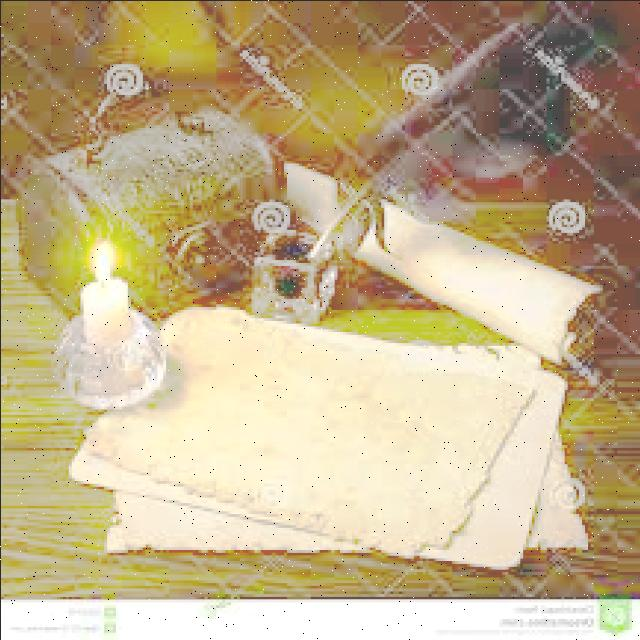api: (89, 238, 125, 285)
